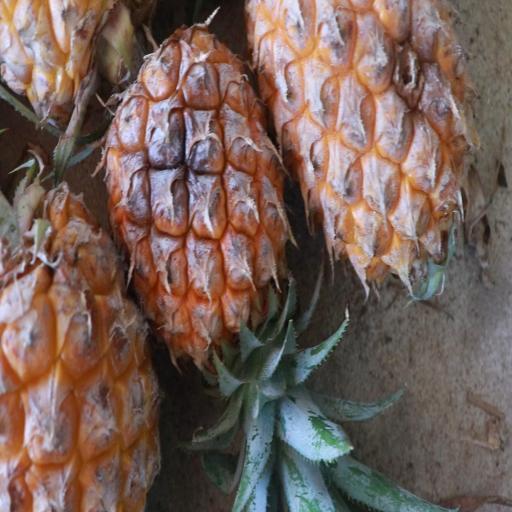Pineapple - v8 v1: (102, 26, 292, 440), (242, 0, 482, 309), (0, 170, 164, 512)
